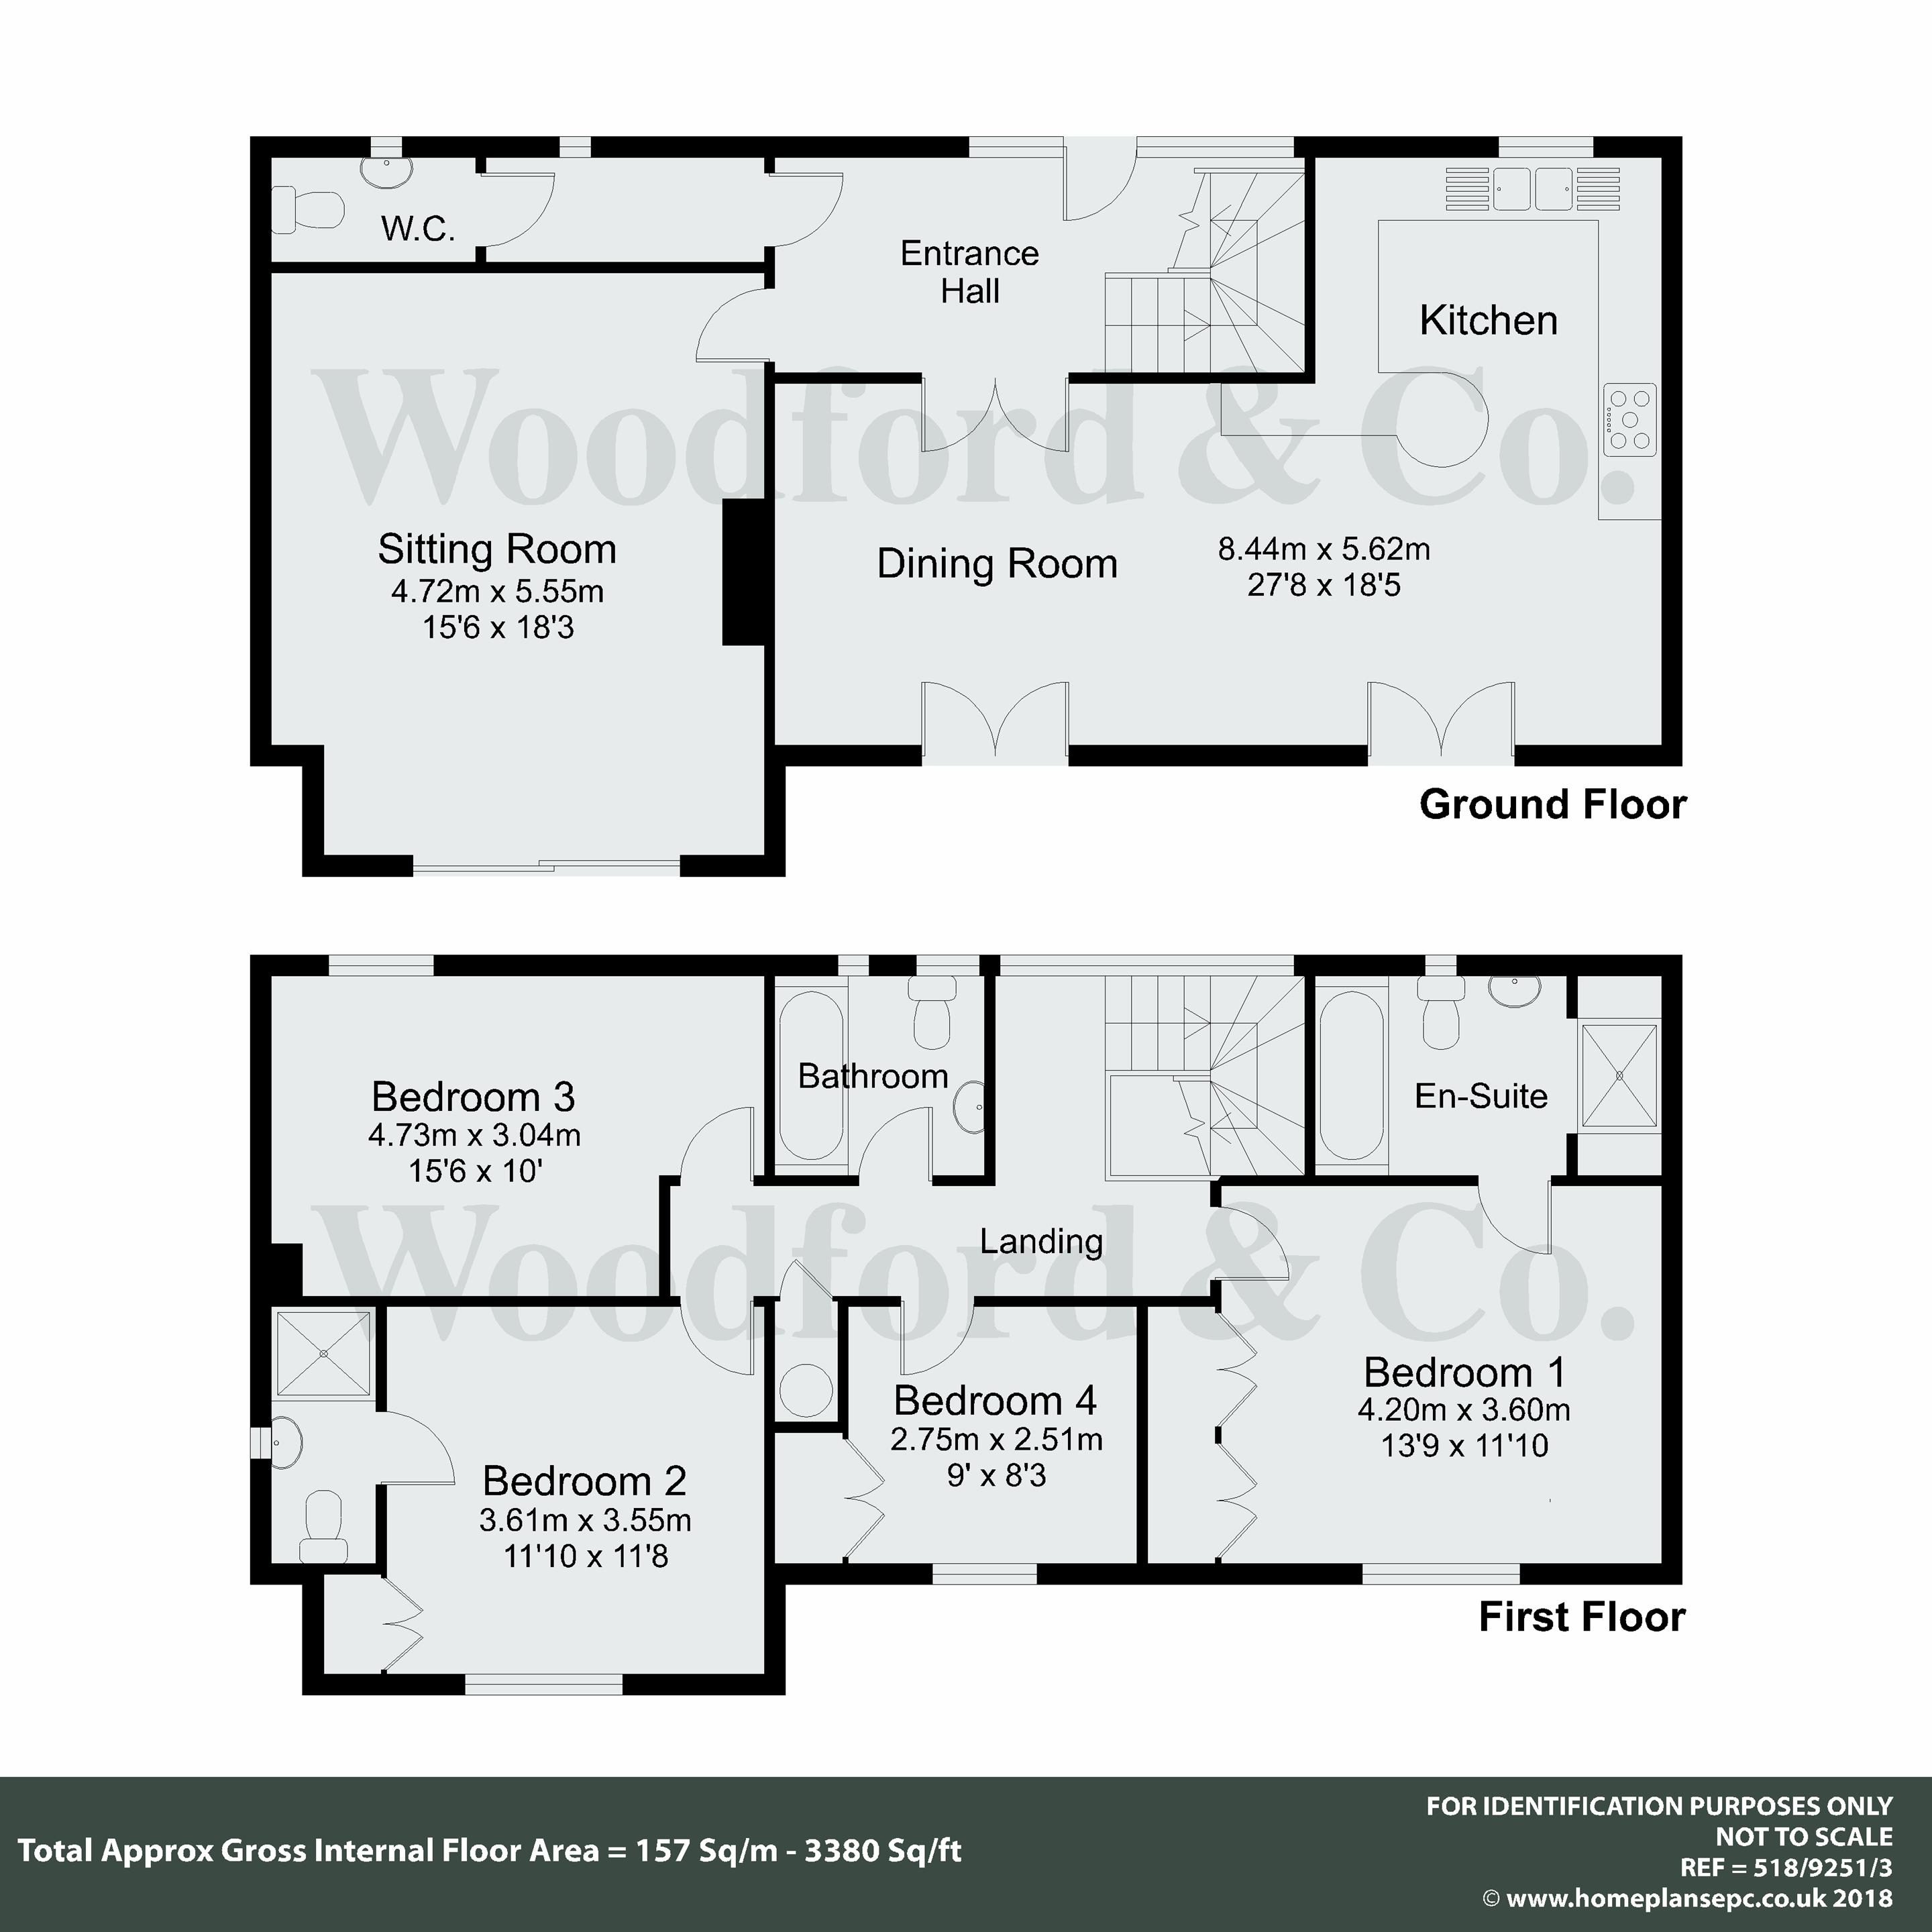window: (409, 851, 685, 881), (996, 952, 1297, 978), (1359, 1559, 1523, 1591), (462, 1670, 625, 1700), (929, 1560, 1040, 1589), (1495, 131, 1596, 161), (324, 952, 437, 978), (913, 952, 984, 980), (833, 952, 874, 980), (248, 1424, 274, 1463), (557, 133, 593, 161), (1422, 954, 1460, 980)
